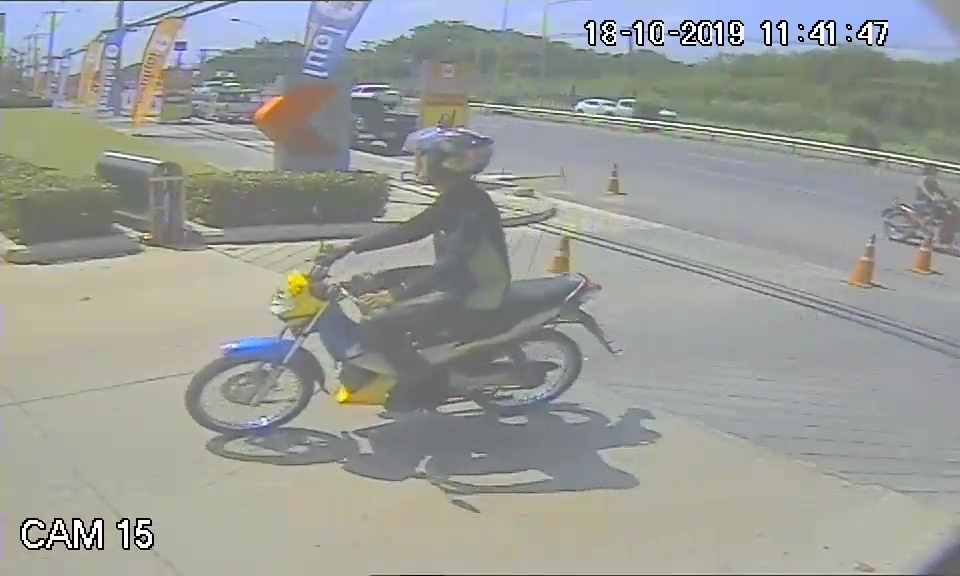motorcycle: (181, 259, 620, 432)
